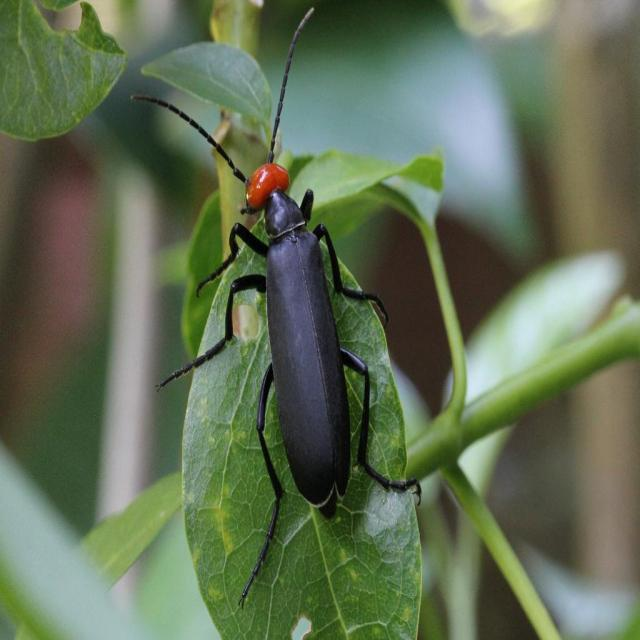BlisterBeetle-Adult-: (130, 6, 424, 611)
